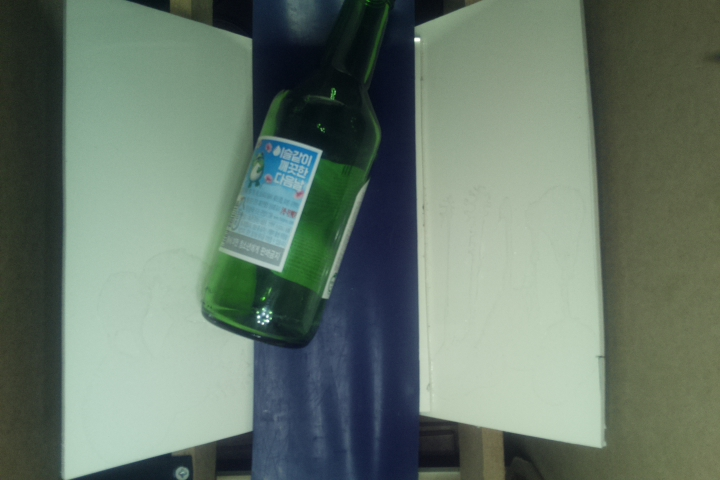soju: (200, 1, 400, 354)
